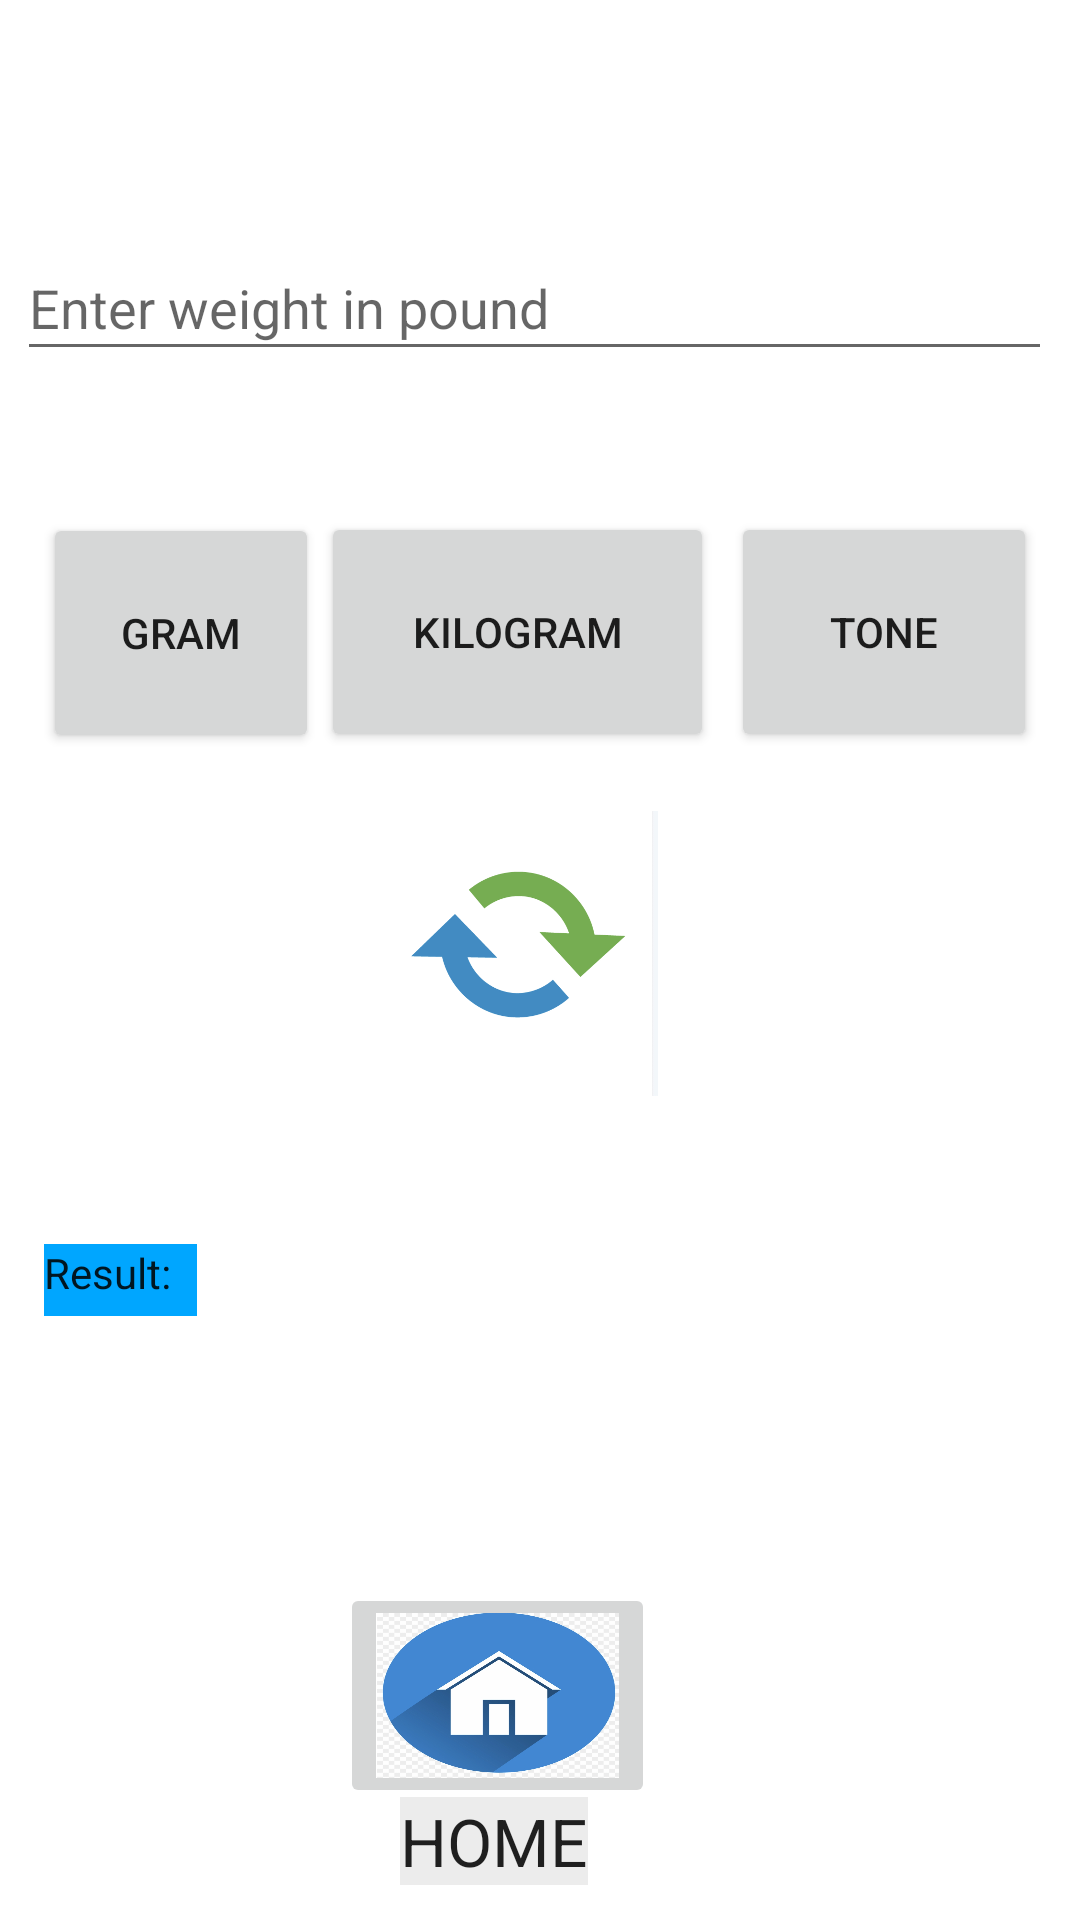

Icon bounding boxes for this 1080 × 1920 phone screenshot, format (left=x1, top=y1, right=x2, bottom=y2):
conversionicon: (left=411, top=871, right=625, bottom=1018)
